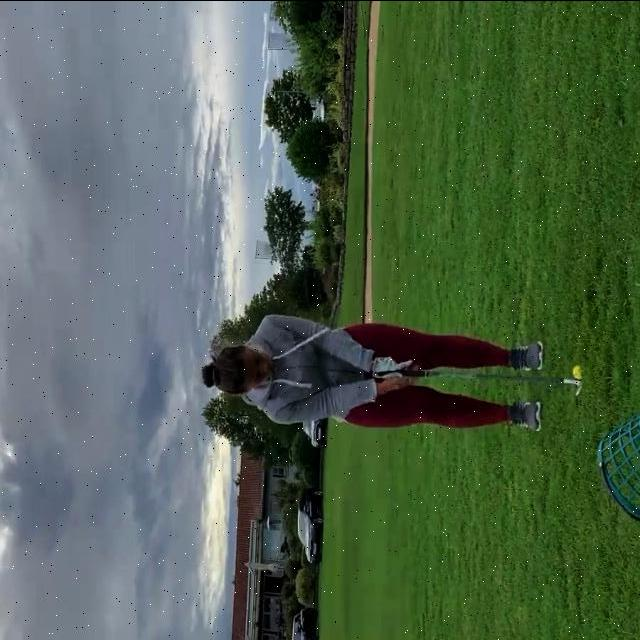golf ball: (573, 362, 583, 377)
golf club-handle: (375, 369, 583, 395)
golf club-head: (574, 381, 583, 394)
